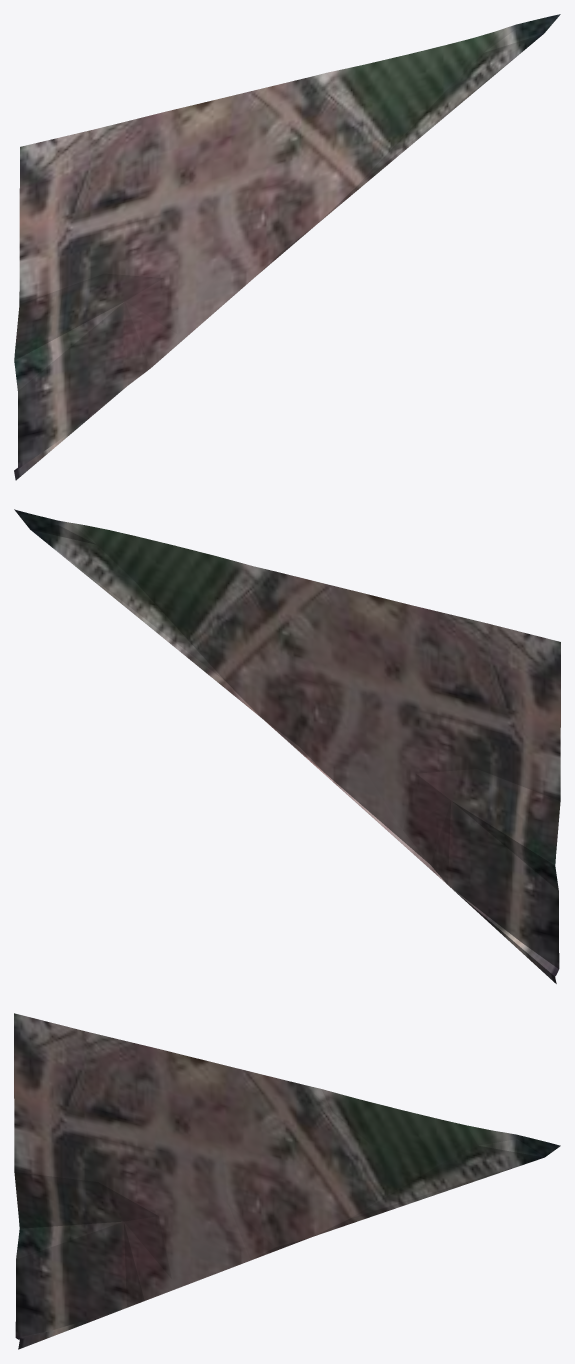
3 views of the same model, one above another, from view 1: azimuth 30°, elevation 25°; view 2: azimuth 150°, elevation 25°; view 3: azimuth 330°, elevation 25° (orthographic).
Parts seen in each view (by area): view 1: 0_3_2_0_2; view 2: 0_3_2_0_2; view 3: 0_3_2_0_2.
Boxes of the visible parts, <box> form: 0_3_2_0_2: <box>14,14,560,480</box>; 0_3_2_0_2: <box>14,509,560,983</box>; 0_3_2_0_2: <box>14,1013,560,1349</box>.
Bounding box in the file's own units: 271 × 161 × 7.02.
Materials: 1 (1 with a texture image).
